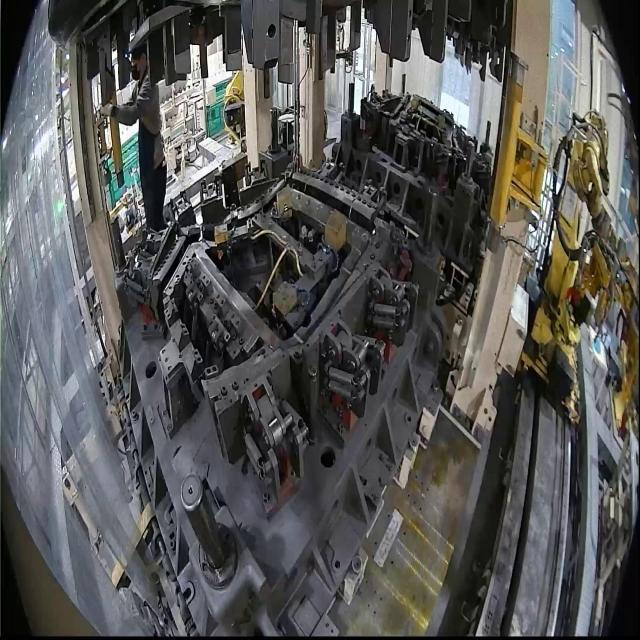Person: (99, 41, 168, 236)
